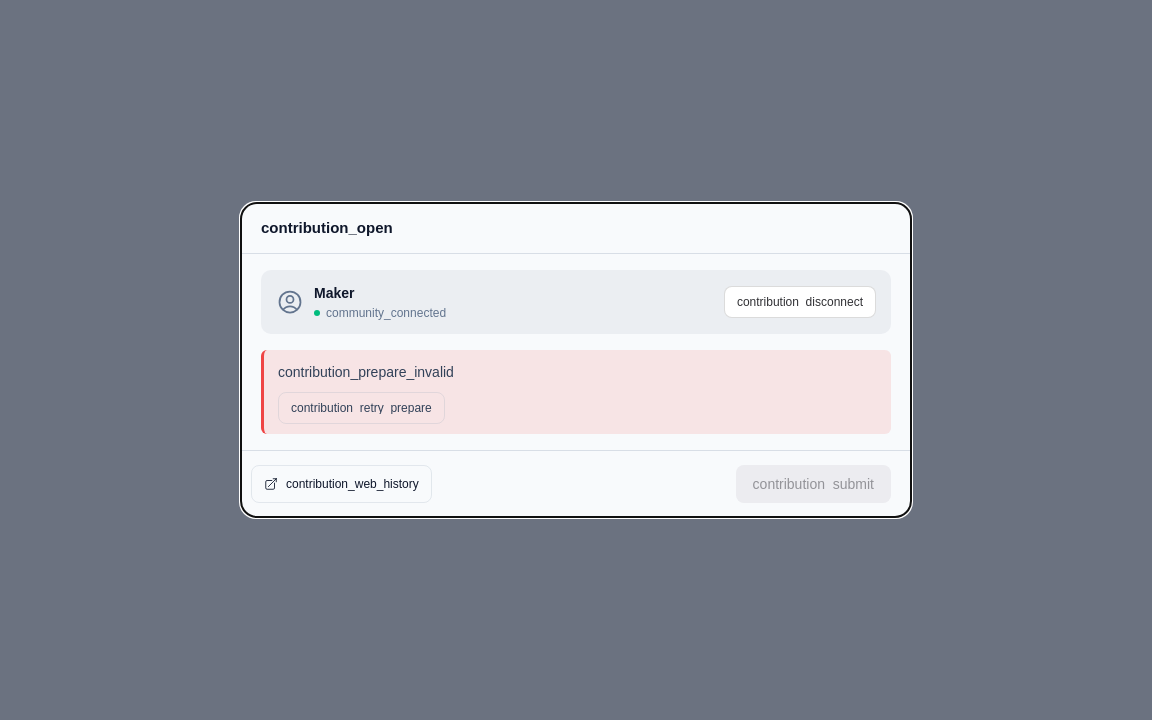
Test: can retry a failed preparation without showing an editable incomplete form
Expected: the message "contribution_prepare_invalid contribution_retry_prepare" is shown, x1=261 y1=350 x2=891 y2=434
Expected: the button "contribution_submit" is disabled, x1=736 y1=465 x2=891 y2=503
Click the button "contribution_retry_prepare".
click(361, 408)  # box x1=278 y1=392 x2=445 y2=424
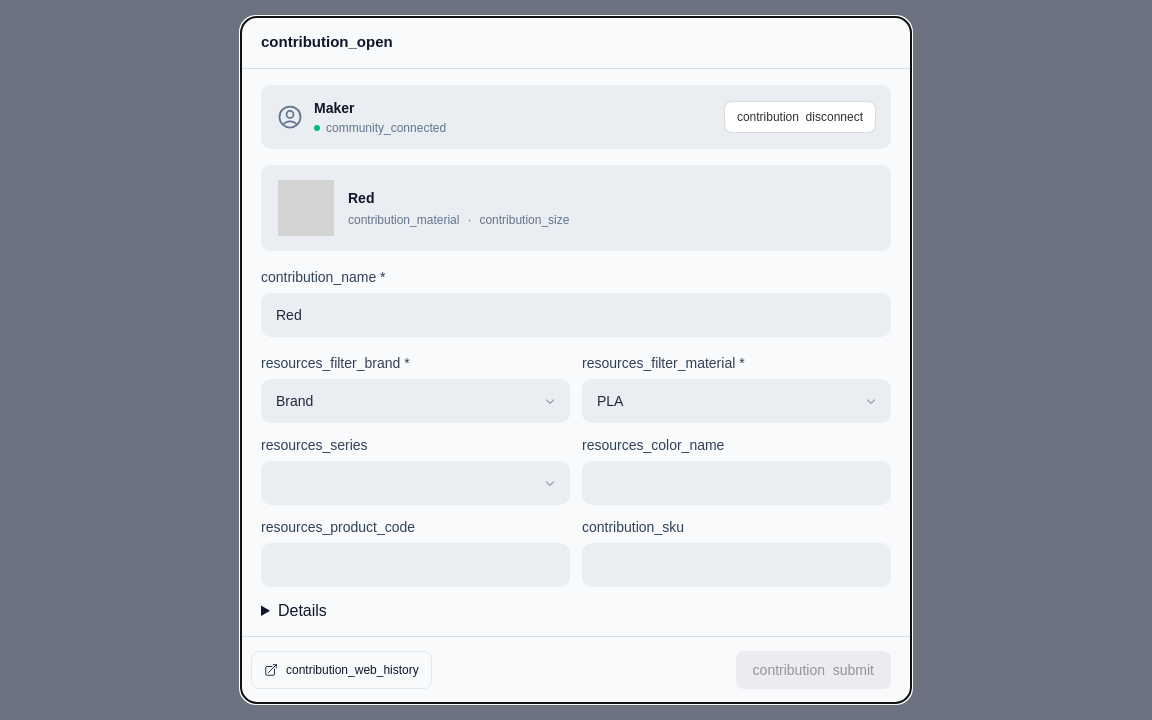
Result: the field showing "Red" is shown at x1=261 y1=292 x2=891 y2=336
Result: the message "contribution_prepare_invalid contribution_retry_prepare" is gone
